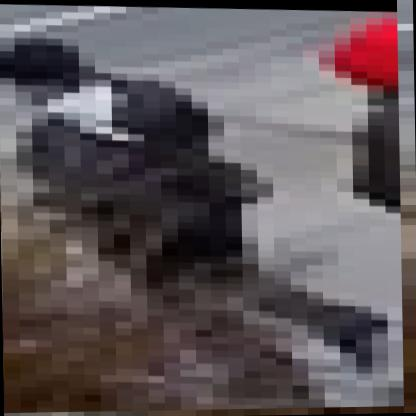Person: (0, 0, 405, 414)
